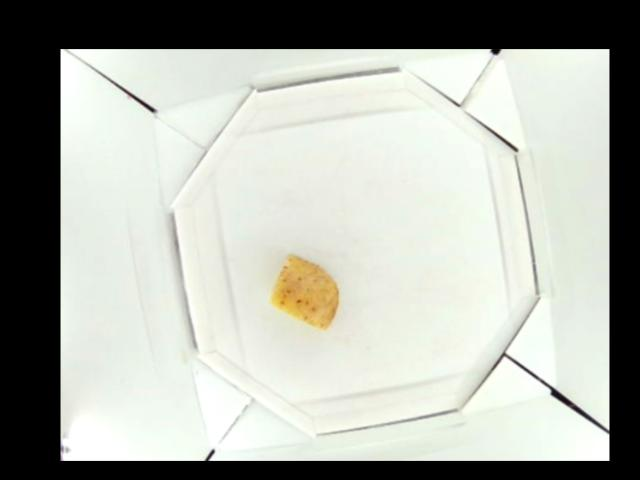Potato: (270, 254, 337, 327)
